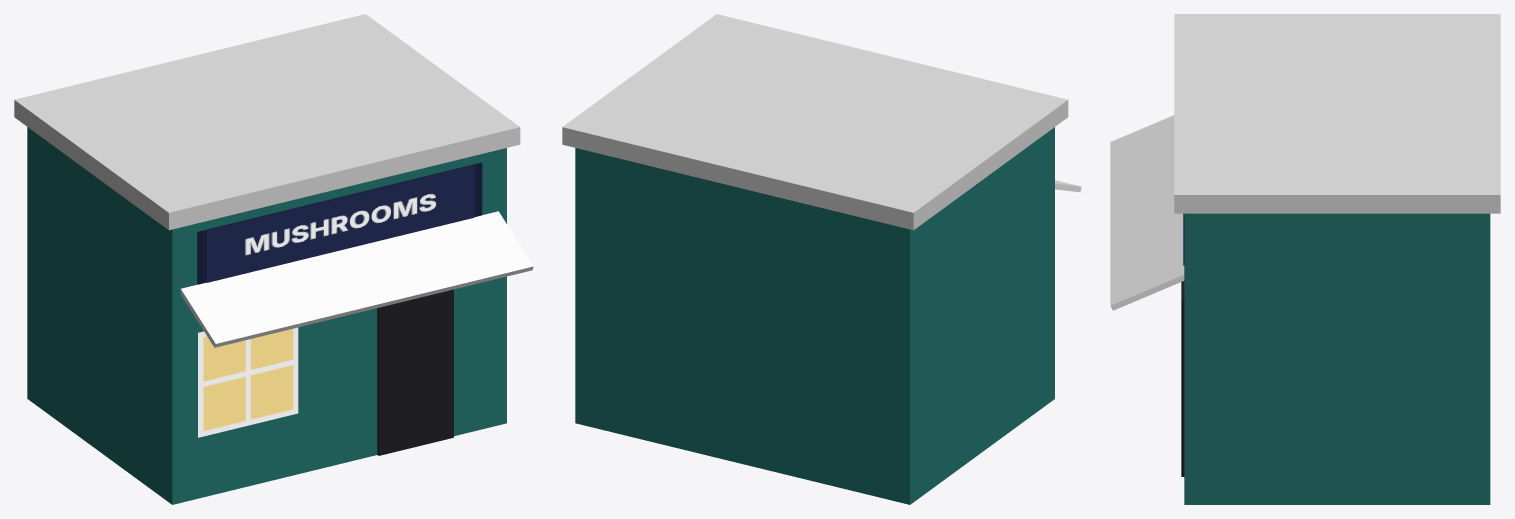
Rendered from shop_mushrooms.glb.
3 views of the same model, side by side, from view 1: azimuth 30°, elevation 25°; view 2: azimuth 150°, elevation 25°; view 3: azimuth 270°, elevation 25° (orthographic). The views are drawn at different scales.
Visible parts, largest first — view 1: shop_mushrooms; view 2: shop_mushrooms; view 3: shop_mushrooms.
Part boxes in pixels (<box>): shop_mushrooms: <box>14,14,533,504</box>; shop_mushrooms: <box>562,14,1081,504</box>; shop_mushrooms: <box>1110,14,1500,504</box>.
Size of the model in its own units: 4.2 by 3.4 by 3.83.
7 materials, 2 textured.
